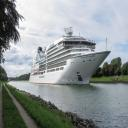cruises: (30, 27, 113, 87)
